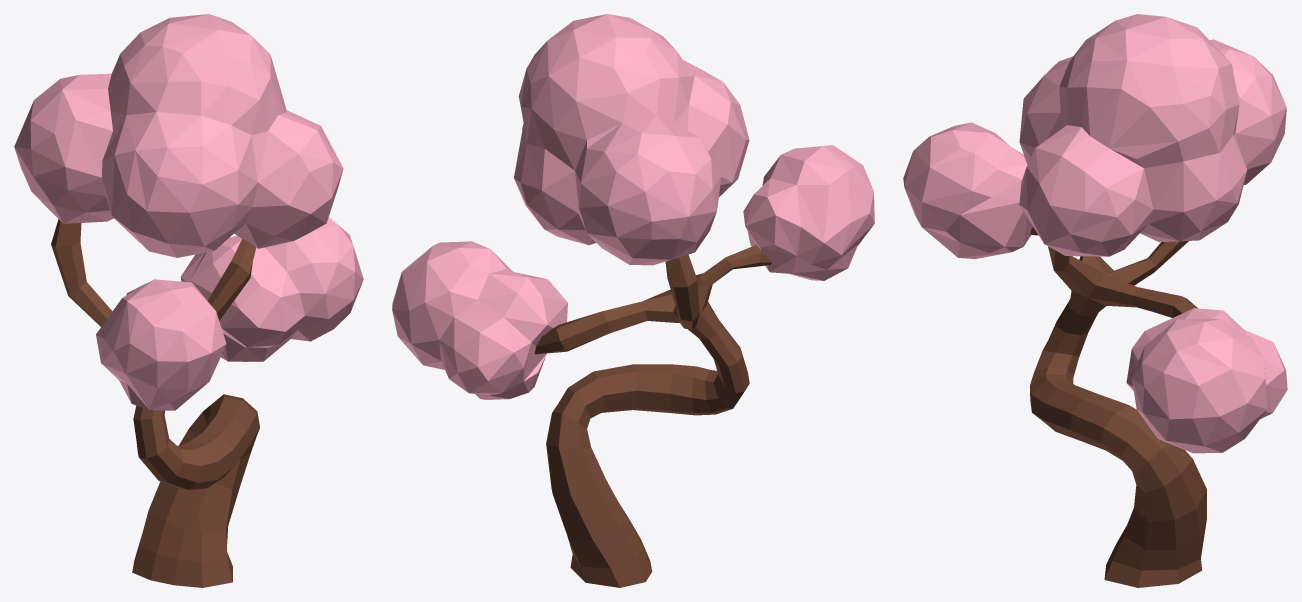
Rendered from tree2.glb.
3 renders of one model, left to right at view 1: azimuth 30°, elevation 25°; view 2: azimuth 150°, elevation 25°; view 3: azimuth 270°, elevation 25°, orthographic. The views are drawn at different scales.
Visible parts, largest first — view 1: LowPoly Tree 06; view 2: LowPoly Tree 06; view 3: LowPoly Tree 06.
Part boxes in pixels (x1=…): LowPoly Tree 06: x1=14, y1=14, x2=363, y2=587; LowPoly Tree 06: x1=392, y1=14, x2=874, y2=587; LowPoly Tree 06: x1=903, y1=14, x2=1287, y2=587.
Bounding box in the file's own units: 2.55 × 3.72 × 2.36.
